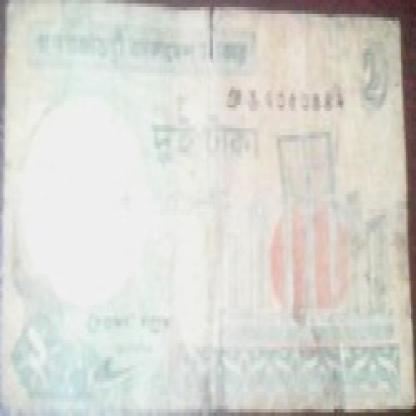two taka: (142, 104, 274, 184), (358, 52, 388, 118)
